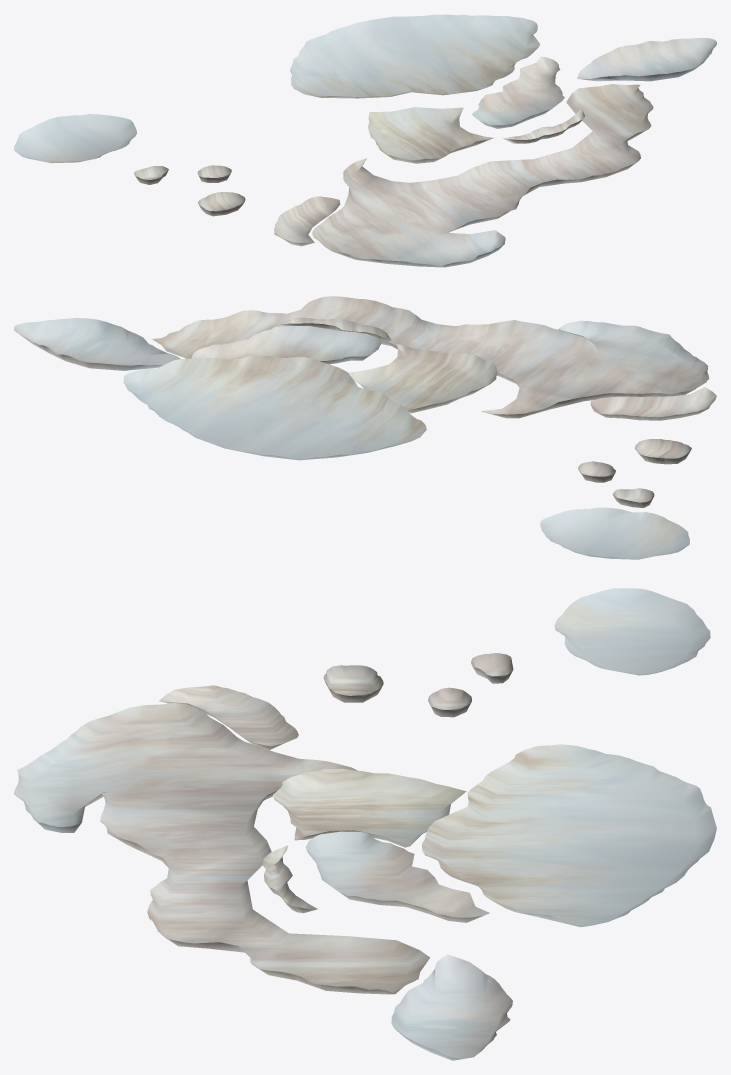
The model's file is M5_T_hedi003.FBX.
The picture shows the model from 3 angles, top to bottom: view 1: azimuth 30°, elevation 25°; view 2: azimuth 150°, elevation 25°; view 3: azimuth 270°, elevation 25°; orthographic projection. The views are drawn at different scales.
Parts seen in each view (by area): view 1: M5_T_hedi003; view 2: M5_T_hedi003; view 3: M5_T_hedi003.
Part boxes in pixels (<box>): M5_T_hedi003: <box>14,14,716,267</box>; M5_T_hedi003: <box>14,296,716,559</box>; M5_T_hedi003: <box>14,588,716,1060</box>.
Size of the model in its own units: 8298 by 526 by 5280.
